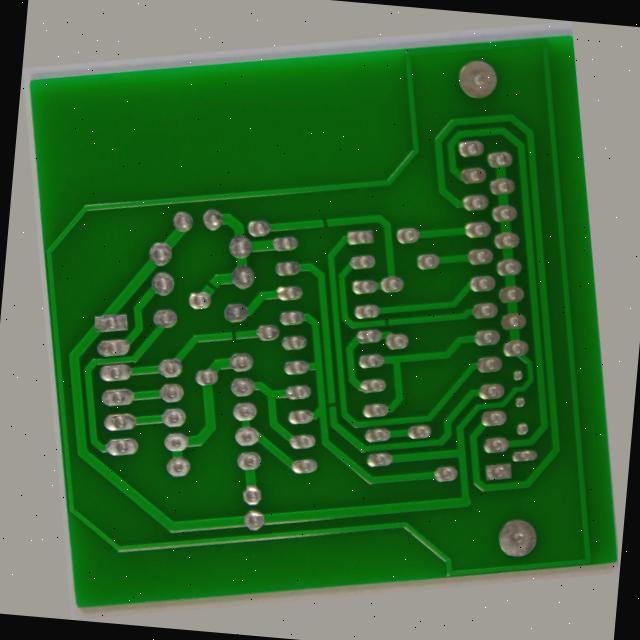open_circuit: (207, 310, 228, 331), (191, 250, 211, 270), (335, 199, 353, 220), (305, 413, 324, 427), (386, 328, 404, 342)
